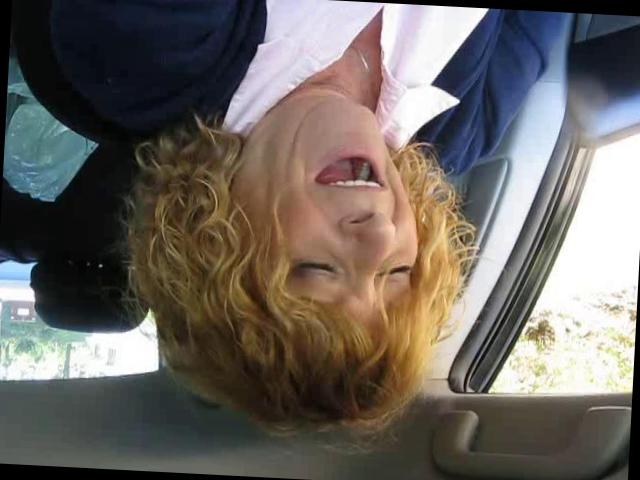eye_closed: (284, 248, 342, 293), (374, 256, 420, 292)
face: (269, 80, 429, 326)
mouth_open: (308, 138, 392, 207)
